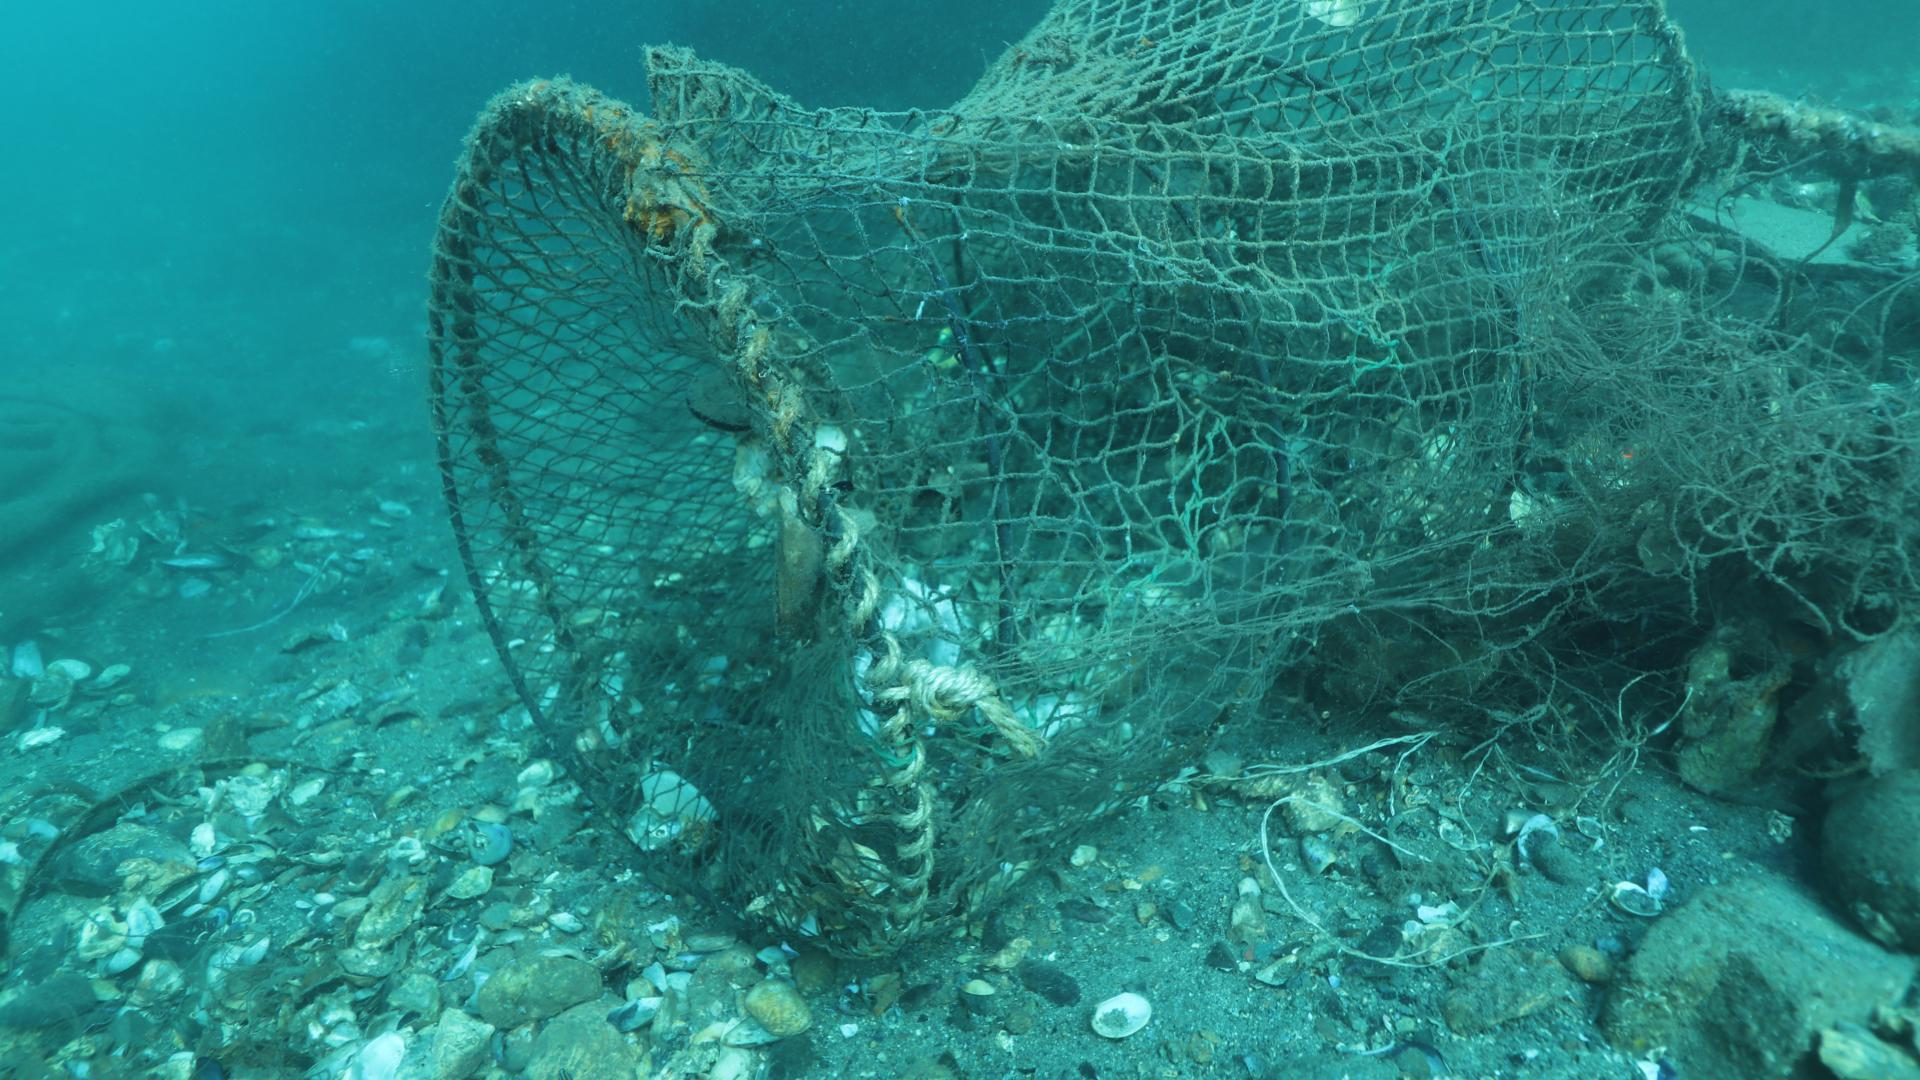rope: (1716, 84, 1920, 167)
spring fish trap: (429, 0, 1702, 965)
